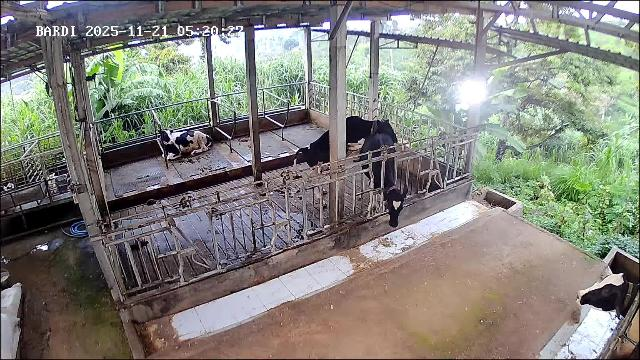mounting: (295, 115, 399, 208)
